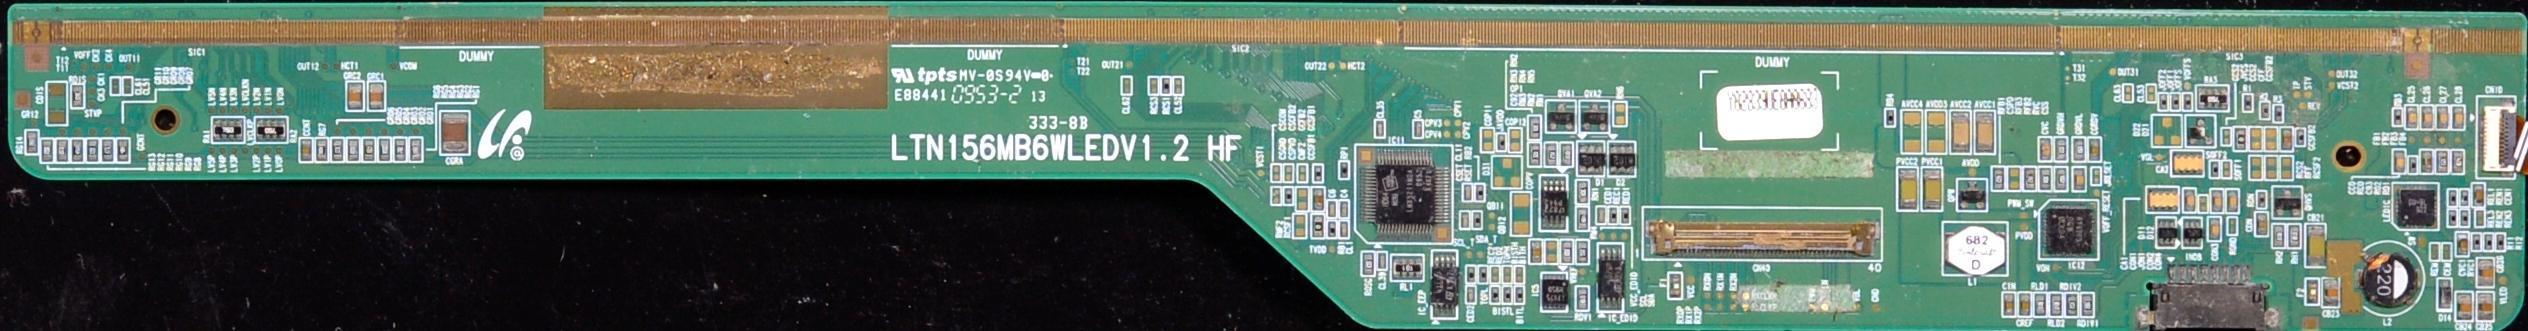Capacitor: (441, 112, 470, 155), (2306, 225, 2327, 268), (1512, 192, 1532, 236), (2478, 258, 2495, 288), (2477, 292, 2493, 321), (369, 81, 386, 109), (348, 82, 364, 111), (2323, 279, 2340, 306), (2457, 293, 2472, 321), (1508, 128, 1522, 153), (2391, 149, 2406, 175), (2421, 102, 2434, 129), (378, 136, 390, 163), (2404, 105, 2418, 129), (331, 138, 345, 162), (299, 139, 312, 162), (1614, 102, 1627, 126), (2452, 105, 2465, 129), (2089, 138, 2102, 161), (1311, 188, 1324, 212), (2456, 232, 2468, 257), (2019, 293, 2031, 316), (2003, 292, 2015, 316), (2436, 105, 2448, 131), (362, 137, 376, 160), (393, 139, 406, 161), (411, 139, 424, 162), (2281, 128, 2292, 151), (1482, 127, 1493, 152), (348, 137, 360, 161), (2040, 138, 2051, 161), (2209, 217, 2220, 240), (1296, 188, 1309, 209), (2073, 168, 2085, 190), (2257, 213, 2269, 235), (1295, 214, 1306, 237), (2473, 184, 2485, 205), (2422, 149, 2432, 173), (2009, 166, 2019, 190), (1271, 188, 1282, 206), (1532, 241, 1542, 263), (2184, 190, 2195, 211), (2228, 190, 2238, 211), (2212, 190, 2222, 212), (1314, 165, 1325, 183), (1284, 188, 1294, 204), (1413, 120, 1422, 138), (1283, 165, 1293, 182), (1272, 165, 1281, 182), (1340, 222, 1349, 239), (1339, 200, 1348, 219), (1596, 208, 1605, 224), (1459, 212, 1469, 228), (1299, 164, 1307, 183), (1174, 77, 1182, 95), (1463, 185, 1472, 201), (1375, 119, 1384, 136), (1378, 253, 1387, 270), (1123, 77, 1132, 94), (1467, 286, 1474, 303), (1328, 202, 1335, 218)
IC: (2047, 209, 2093, 254), (1598, 260, 1624, 297), (1431, 267, 1457, 304), (1542, 278, 1567, 305), (1540, 191, 1567, 215)
Resistor: (115, 138, 129, 164), (2054, 167, 2068, 191), (316, 138, 329, 163), (1527, 143, 1541, 167), (2037, 168, 2051, 191), (1575, 287, 1589, 310), (26, 131, 38, 155), (86, 138, 98, 162), (72, 85, 85, 110), (2288, 224, 2302, 245), (1561, 143, 1573, 166), (1993, 168, 2005, 191), (2024, 168, 2036, 191), (2273, 224, 2286, 247), (1529, 116, 1540, 140), (56, 139, 68, 163), (71, 139, 82, 162), (101, 139, 113, 162), (1545, 144, 1556, 166), (2436, 150, 2447, 173), (2452, 150, 2464, 173), (1578, 181, 1590, 204), (1577, 208, 1588, 231), (1577, 241, 1588, 263), (42, 140, 54, 162), (1362, 253, 1373, 275), (2408, 156, 2418, 174), (1609, 207, 1618, 224), (2472, 233, 2481, 250), (1162, 77, 1172, 96), (1149, 77, 1159, 95), (2448, 190, 2457, 207), (1621, 207, 1630, 223), (2460, 189, 2469, 206), (2461, 210, 2469, 227), (2484, 234, 2492, 251), (2449, 210, 2457, 225), (2496, 235, 2504, 250)
Transistor: (2273, 187, 2304, 219), (1546, 102, 1577, 132), (1581, 102, 1609, 133)
